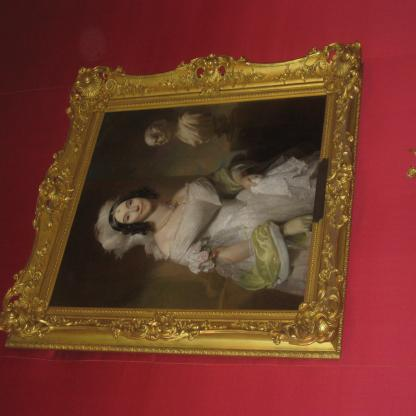Picture-frame: (17, 44, 364, 360)
